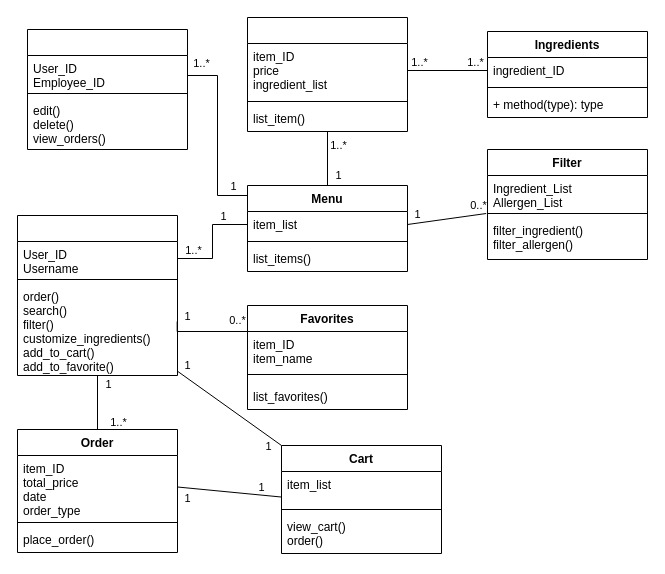
The diagram is 665 pixels wide and 574 high, and some of its shapes have lost their labels. Here are the shapes that lost their labels. From the top down, the box of each, then its label:
(26, 28, 188, 150): Admin Account
(246, 16, 408, 132): Menu Item
(16, 214, 178, 376): Customer Account
